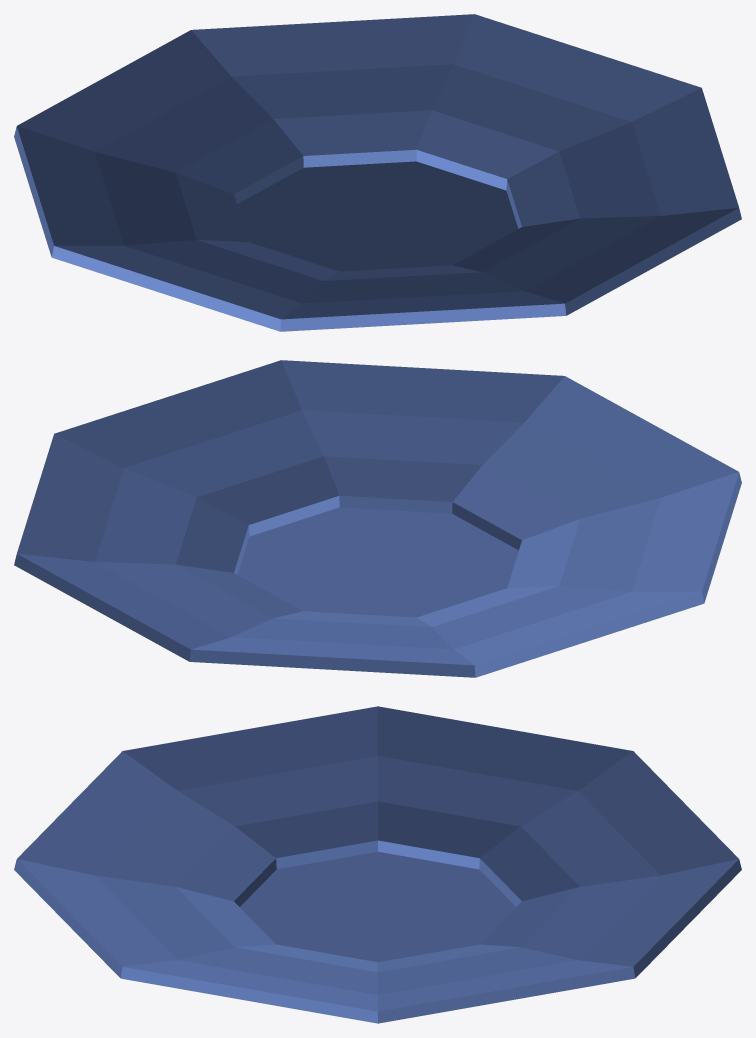
The model's file is Plate 2.fbx.
3 views of the same model, one above another, from view 1: azimuth 30°, elevation 25°; view 2: azimuth 150°, elevation 25°; view 3: azimuth 270°, elevation 25° (orthographic). The views are drawn at different scales.
Visible parts, largest first — view 1: Node 0; view 2: Node 0; view 3: Node 0.
Boxes of the visible parts, <box> form: Node 0: <box>14,14,741,331</box>; Node 0: <box>14,360,741,677</box>; Node 0: <box>14,706,741,1023</box>.
Size of the model in its own units: 0.2966 by 0.0271 by 0.2966.
